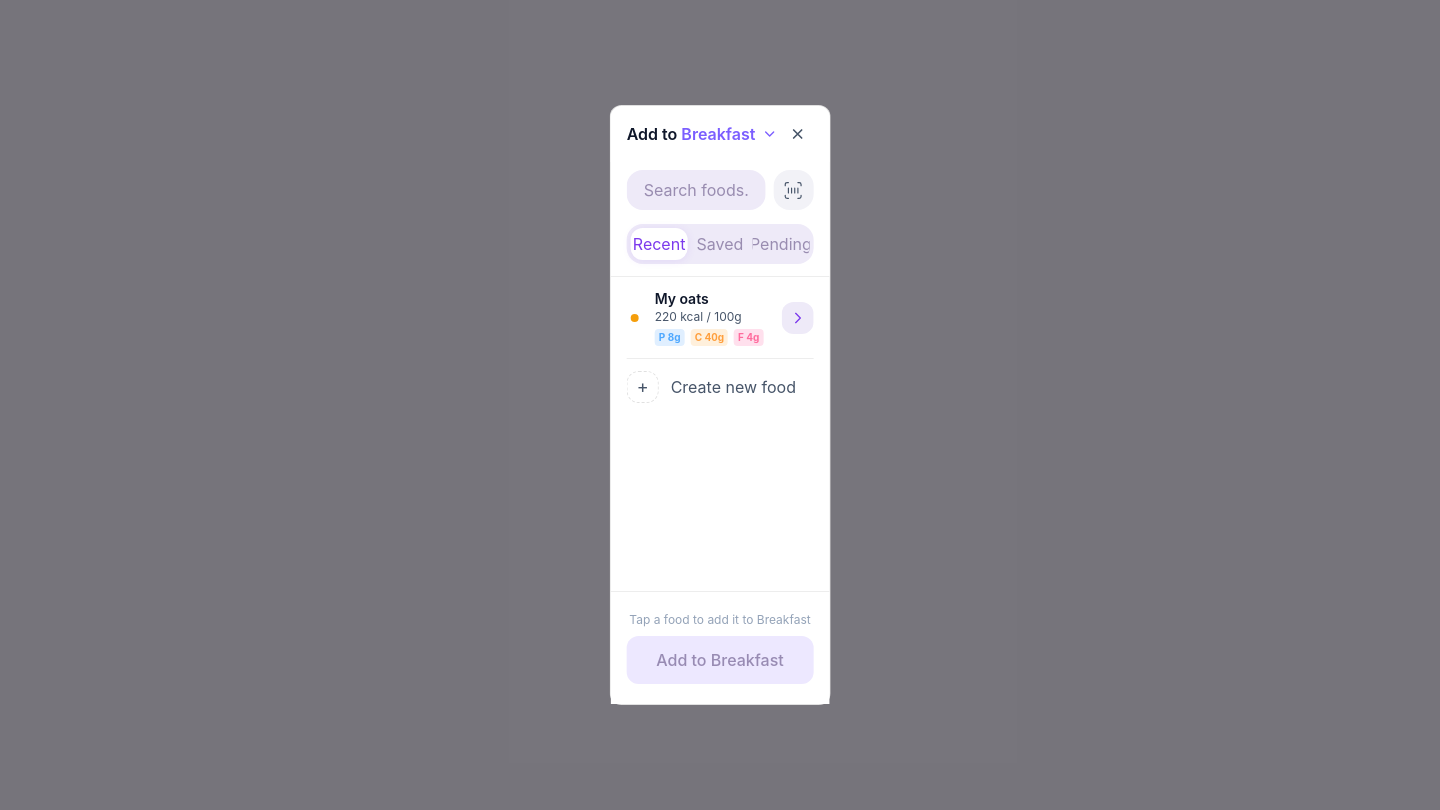
Test case: MealSheet › reopens the serving step from a pending list row
Click the button "My oats 220 kcal / 100g P 8g C 40g F 4g" at (720, 318), box [611,277,829,358]
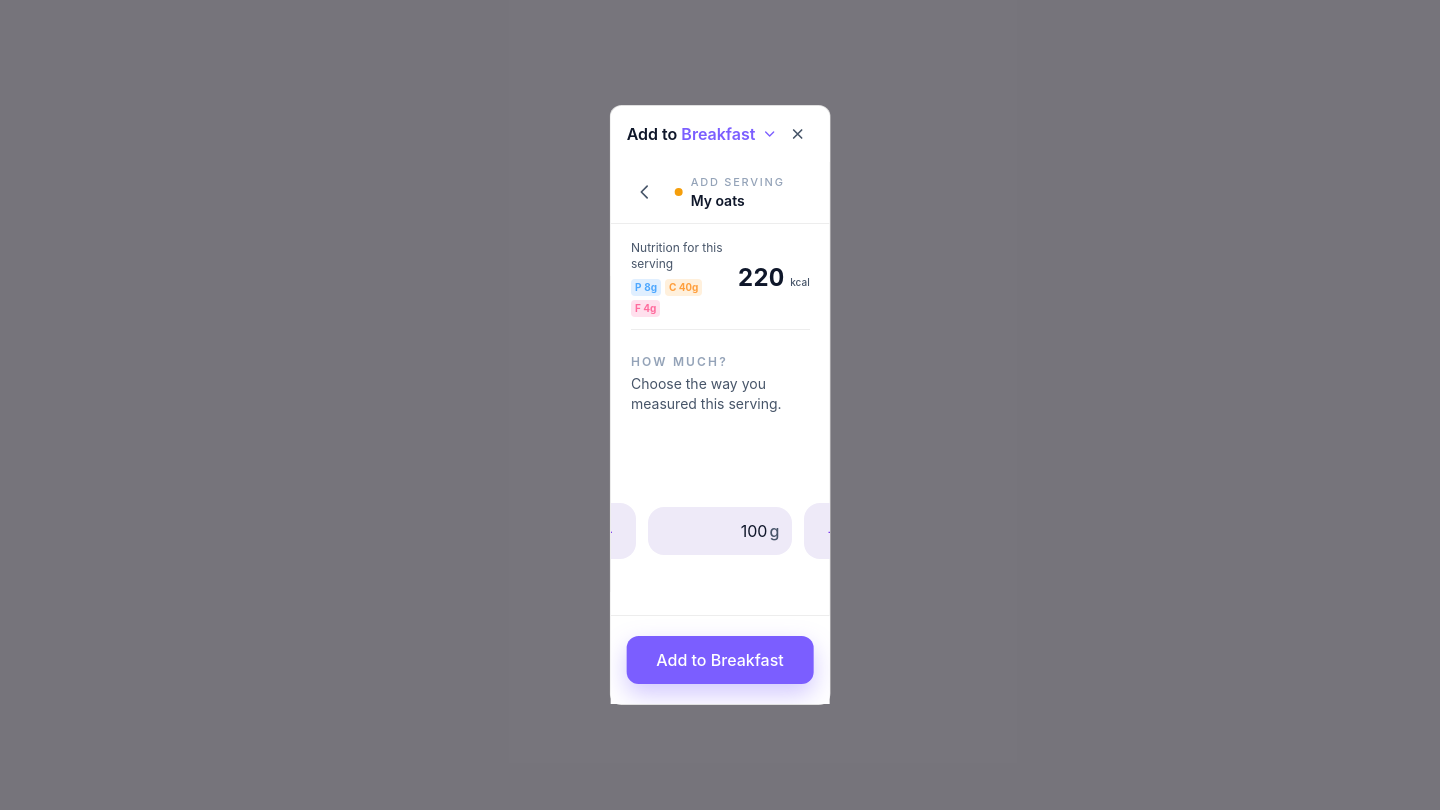
Click the button "Add to Breakfast" below "How much?" at (720, 660), box [627,636,813,684]
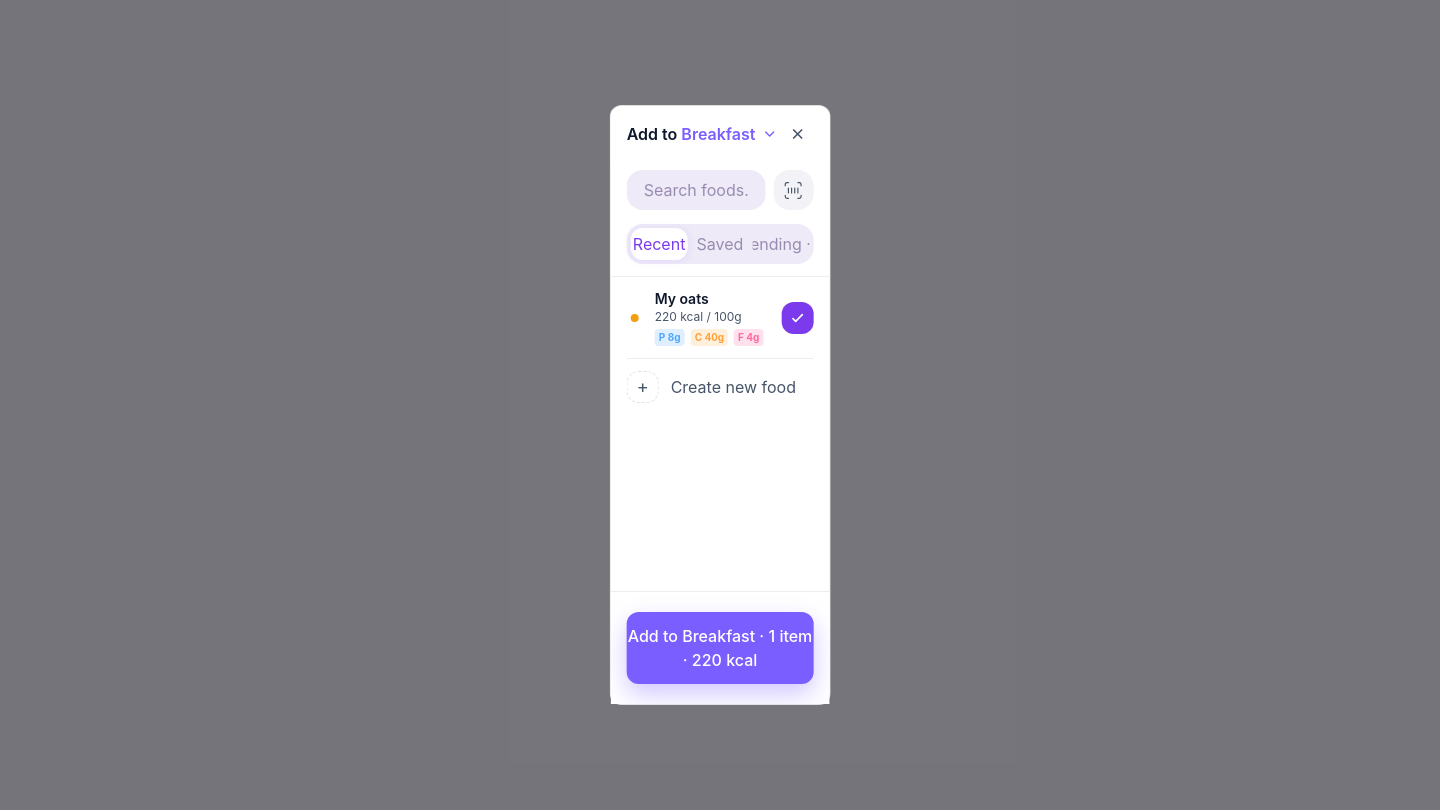
Click the tab "Pending · 1" at (781, 244), box [752,228,809,260]
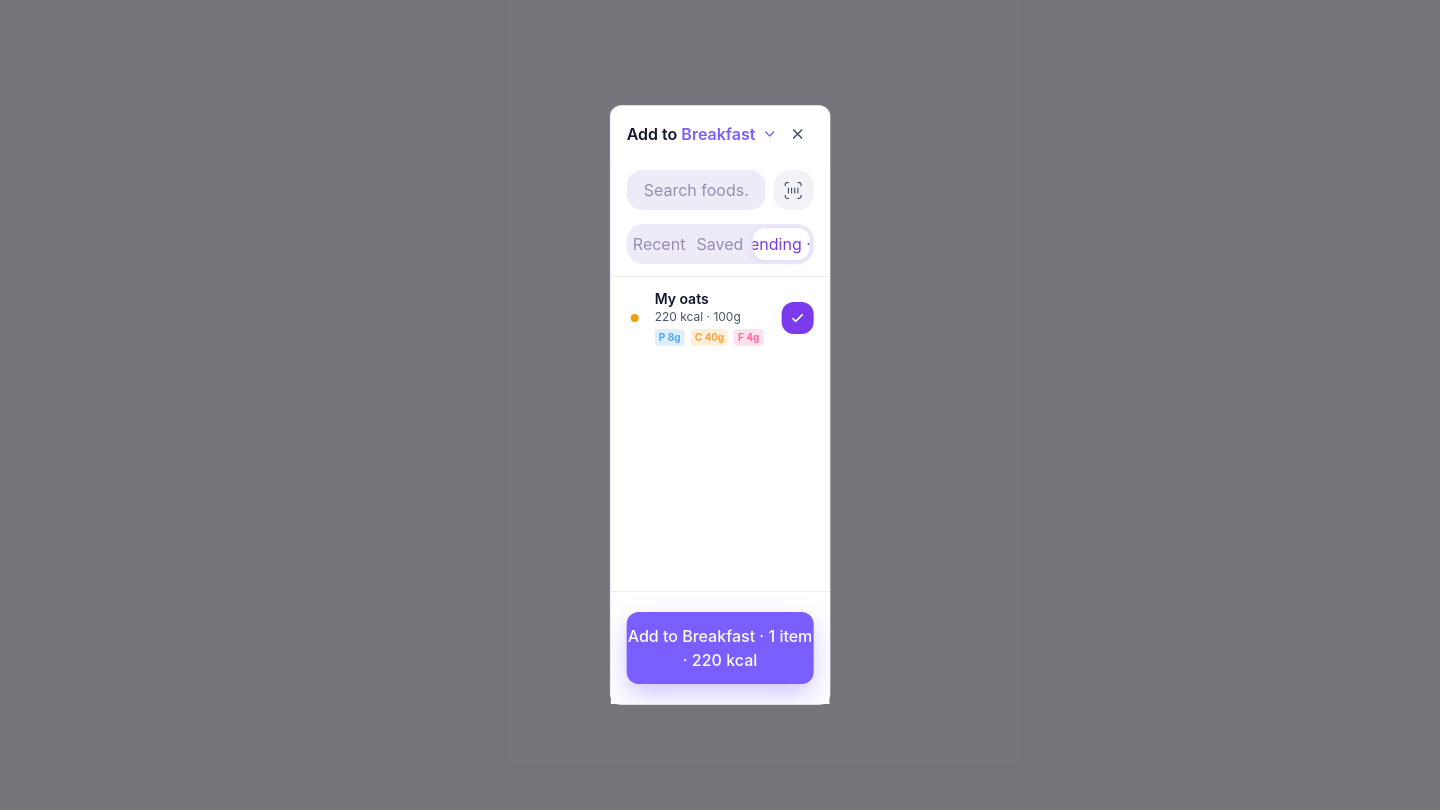
Click the button "My oats 220 kcal · 100g P 8g C 40g F 4g" at (720, 318), box [611,277,829,358]
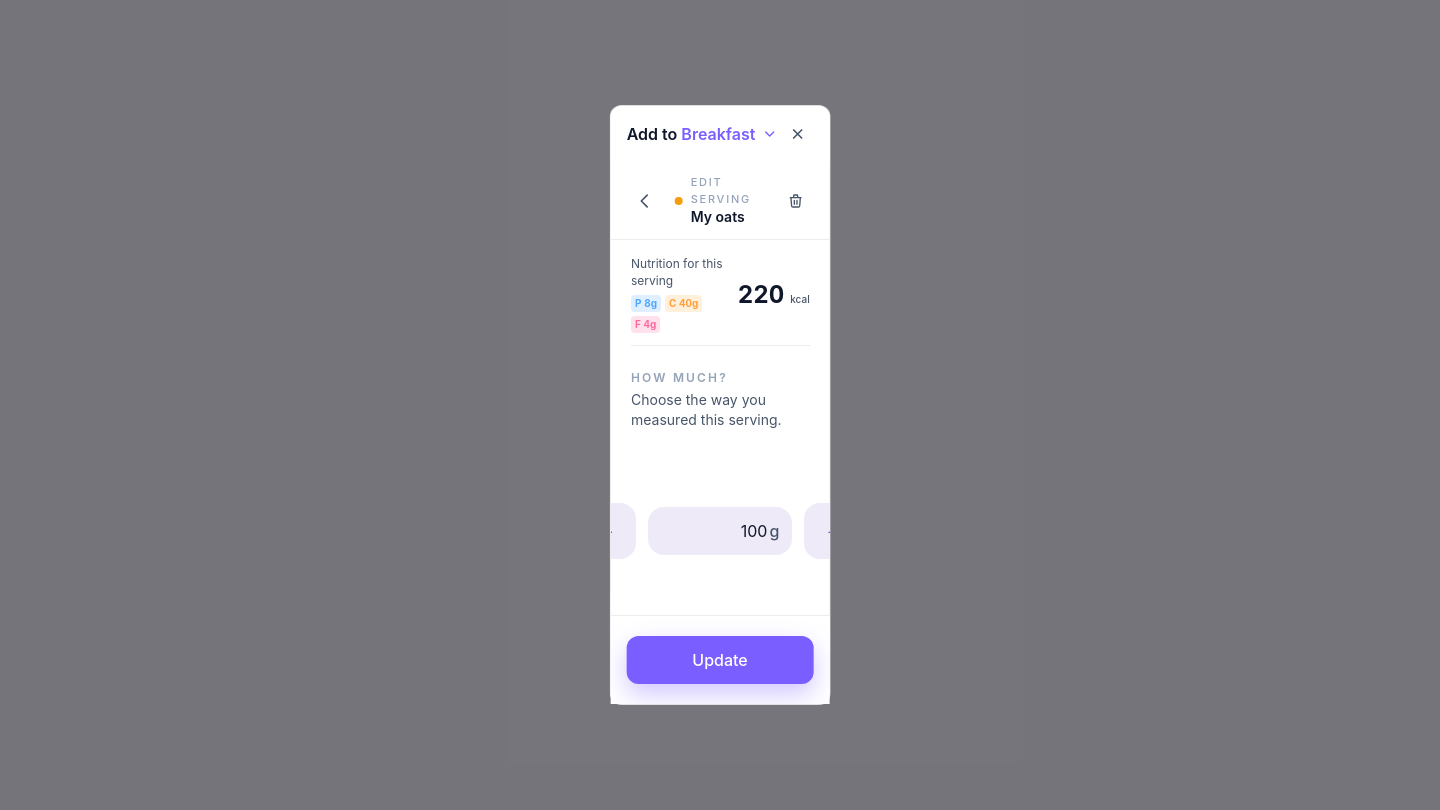
Expected: the text "220" is shown, [737,282,784,306]
Now the button "Update" is shown, box [627,636,813,684]
